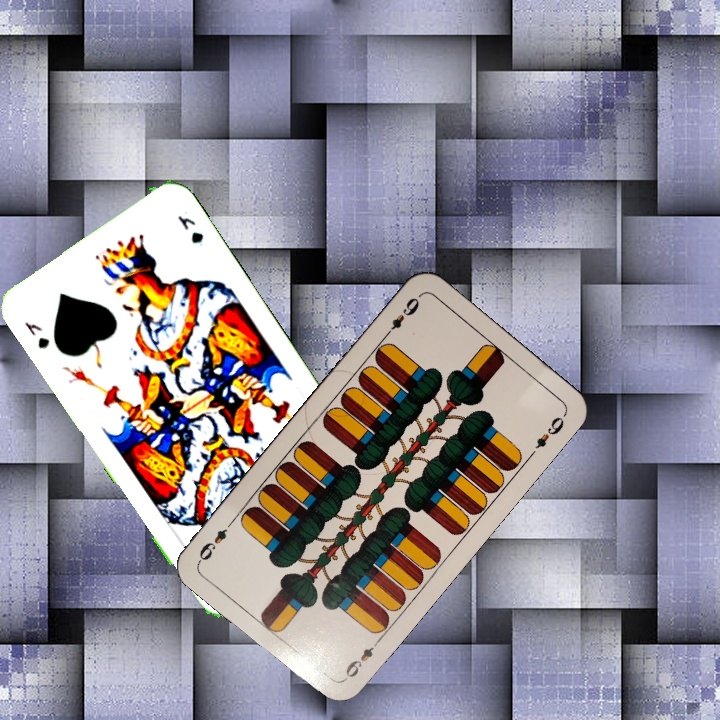E9: (340, 635, 384, 684), (380, 291, 423, 340)
GK: (20, 317, 52, 352)
